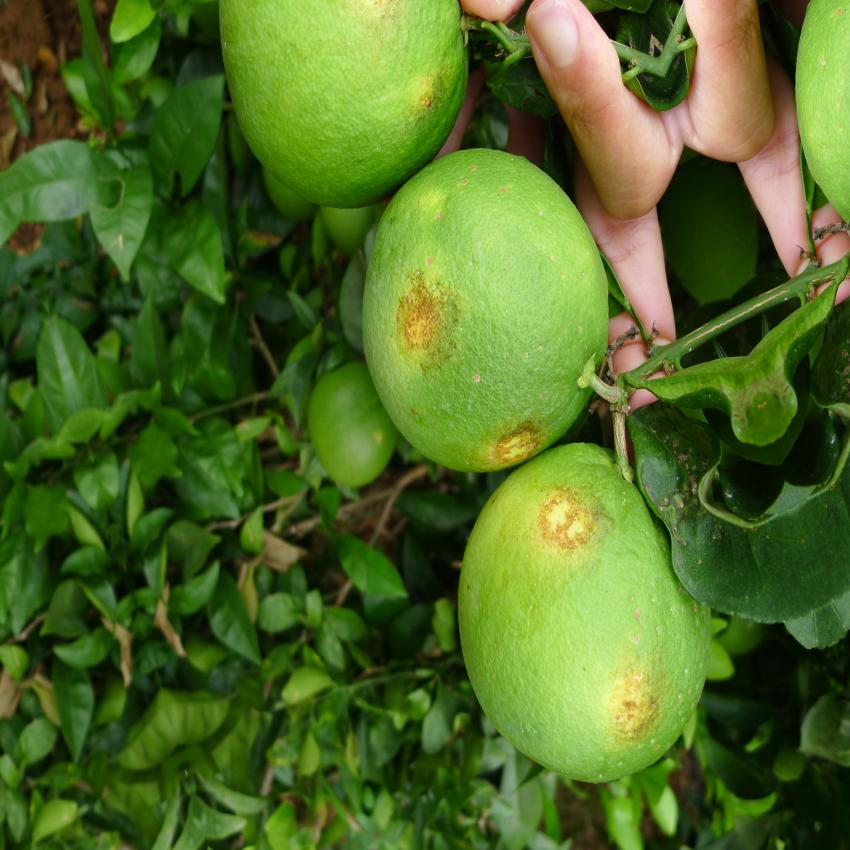Mal estado: (303, 135, 616, 488), (440, 424, 728, 778), (216, 0, 465, 195)
